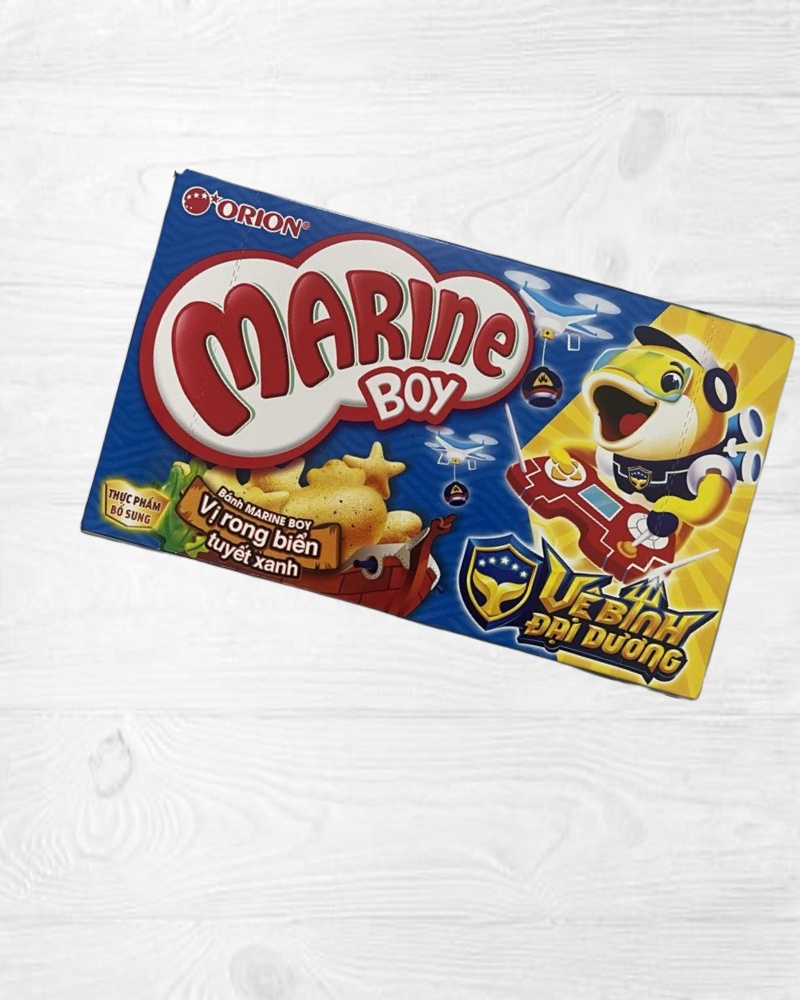Marine: (80, 168, 800, 704)
